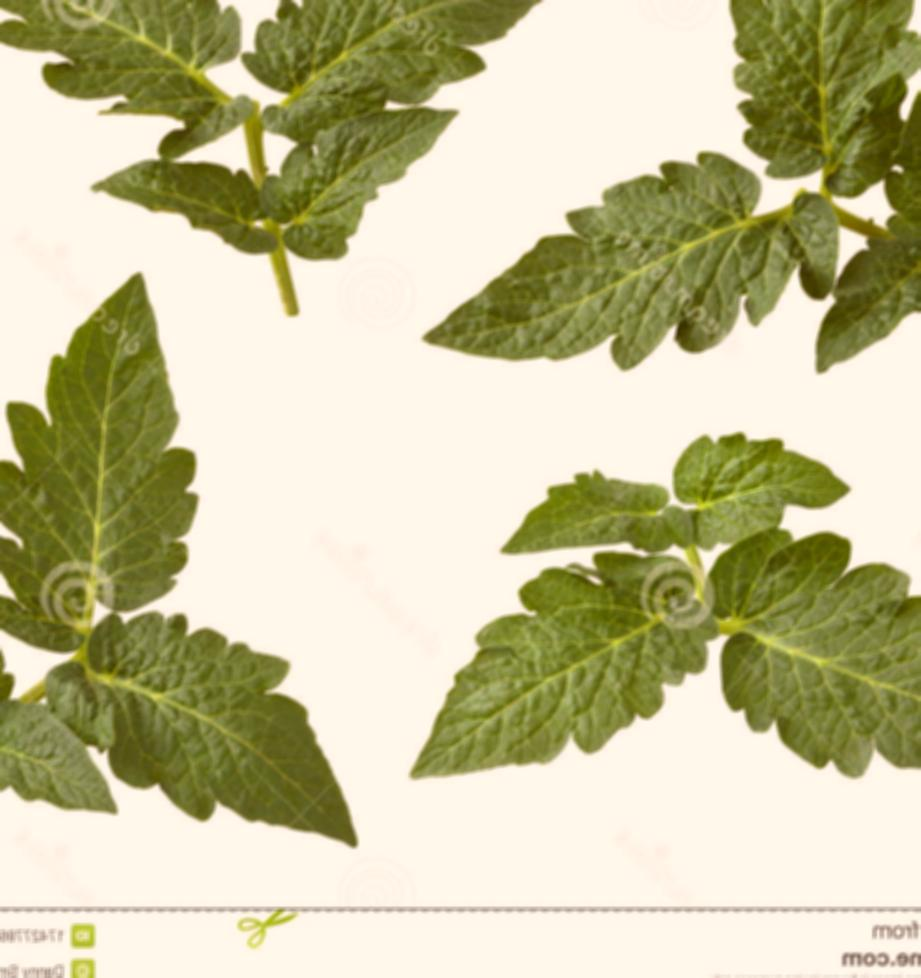Tomato leaf: (391, 143, 823, 404), (376, 540, 703, 808), (0, 259, 203, 684), (704, 508, 921, 828), (247, 0, 583, 150), (701, 0, 921, 191), (0, 0, 247, 143)
